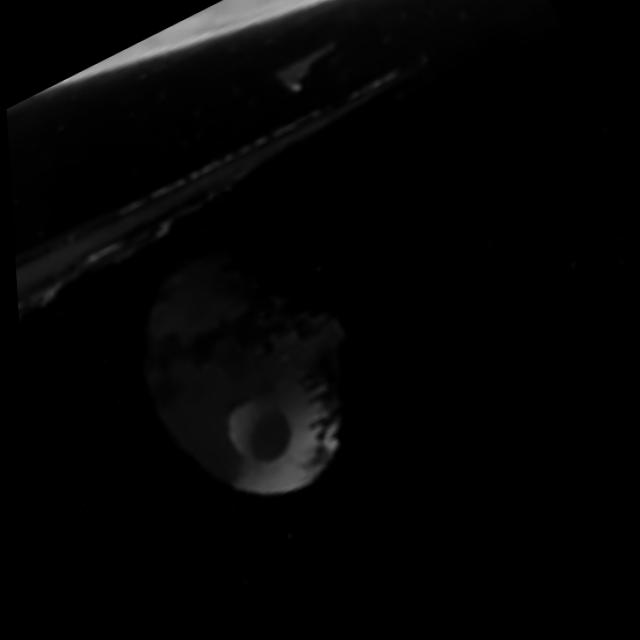death-stars: (133, 244, 341, 498)
